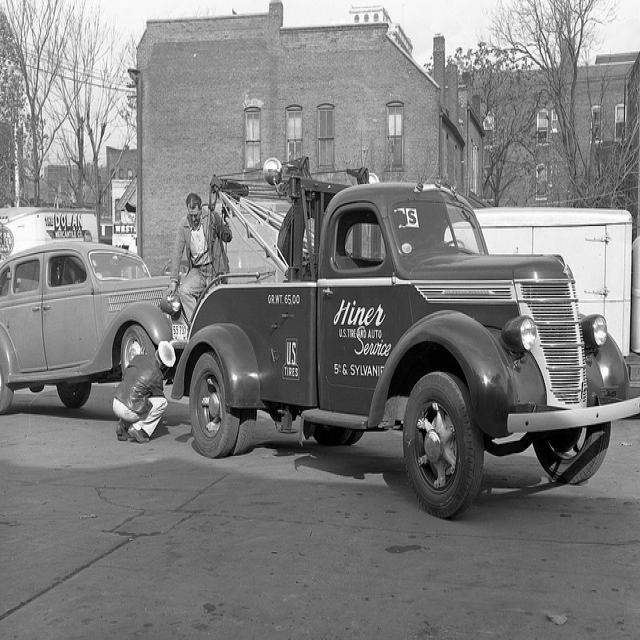Vehicle: (168, 175, 640, 514), (0, 240, 188, 414)
